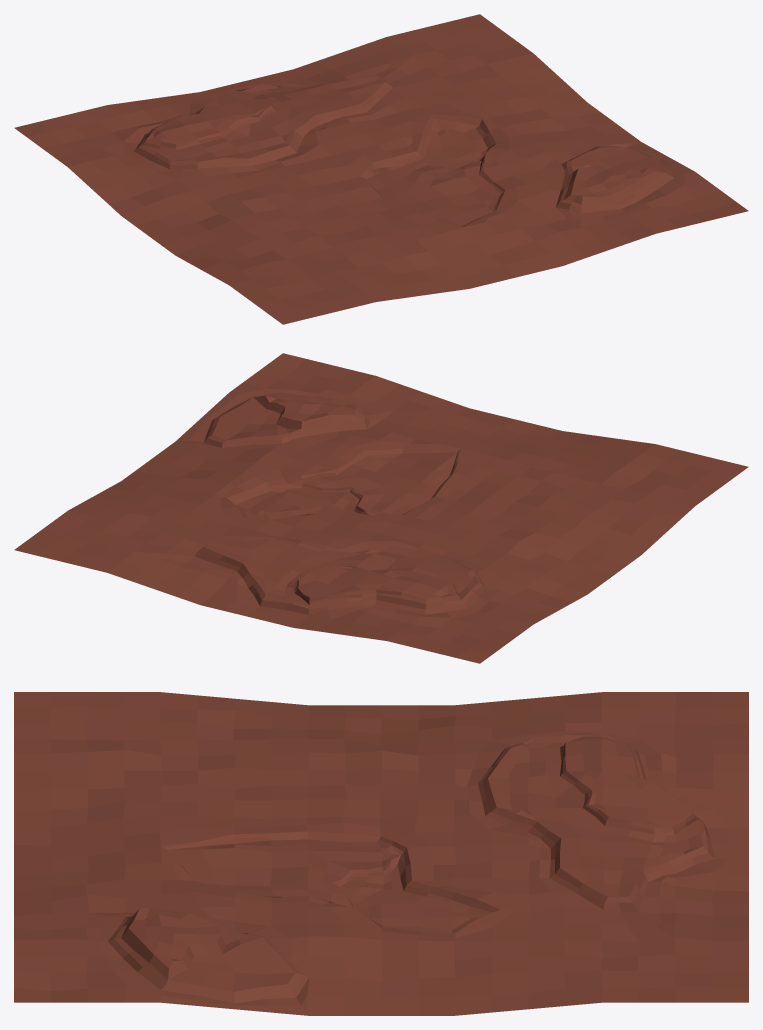
Rendered from Terrain_a_dry.FBX.
3 renders of one model, top to bottom at view 1: azimuth 30°, elevation 25°; view 2: azimuth 150°, elevation 25°; view 3: azimuth 270°, elevation 25°, orthographic. The views are drawn at different scales.
Parts seen in each view (by area): view 1: Terrain_a_dry; view 2: Terrain_a_dry; view 3: Terrain_a_dry.
Part boxes in pixels (x1=…): Terrain_a_dry: x1=14, y1=14, x2=748, y2=324; Terrain_a_dry: x1=14, y1=353, x2=748, y2=663; Terrain_a_dry: x1=14, y1=692, x2=748, y2=1015.
Bounding box in the file's own units: 100 × 4.67 × 100.
